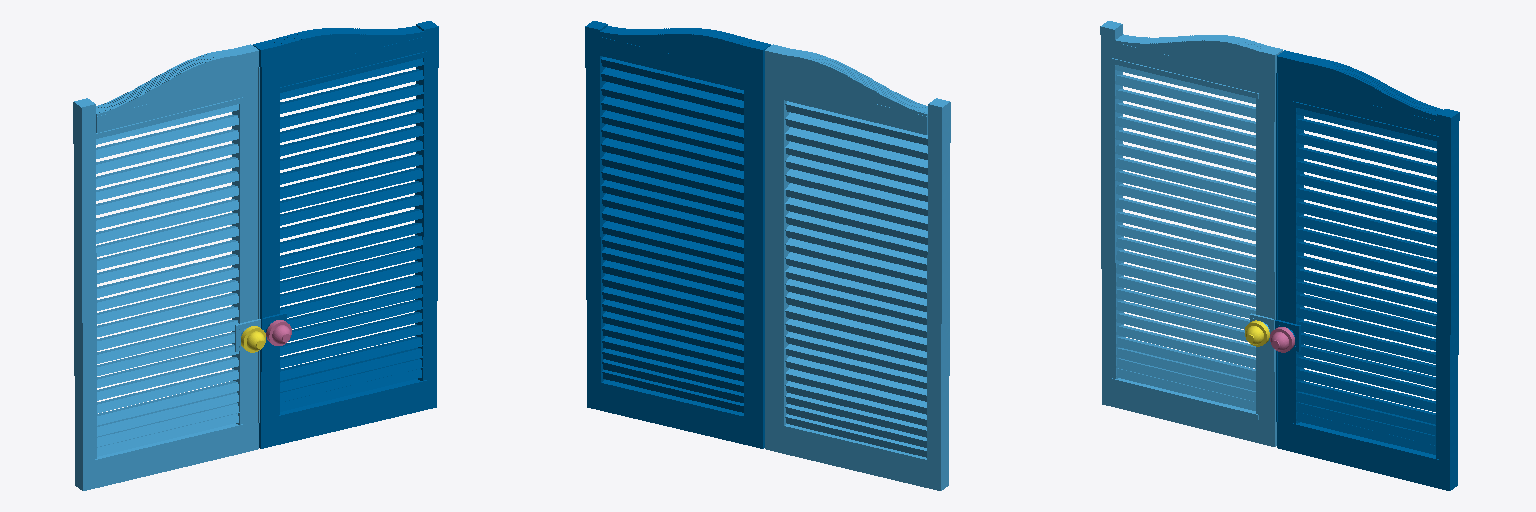
robot.urdf — frameless_paired_louver_door:
<robot name="frameless_paired_louver_door">
  <material name="honey_oak">
    <color rgba="0.66 0.39 0.17 1" />
  </material>
  <material name="sunlit_oak">
    <color rgba="0.76 0.49 0.24 1" />
  </material>
  <material name="oak_shadow">
    <color rgba="0.43 0.24 0.1 1" />
  </material>
  <material name="aged_steel">
    <color rgba="0.33 0.34 0.32 1" />
  </material>
  <material name="warm_brass">
    <color rgba="0.76 0.57 0.19 1" />
  </material>
  <material name="polished_brass">
    <color rgba="0.93 0.76 0.34 1" />
  </material>
  <link name="kinematic_root" />
  <link name="door_0">
    <visual name="door_0">
      <geometry>
        <mesh filename="assets/meshes/door_0.obj" />
      </geometry>
    </visual>
    <collision name="door_0">
      <geometry>
        <mesh filename="assets/meshes/door_0.obj" />
      </geometry>
    </collision>
  </link>
  <link name="knob_mount_0">
    </link>
  <link name="knob_0">
    <visual name="knob_0">
      <geometry>
        <mesh filename="assets/meshes/knob_0.obj" />
      </geometry>
    </visual>
    <collision name="knob_0">
      <geometry>
        <mesh filename="assets/meshes/knob_0.obj" />
      </geometry>
    </collision>
  </link>
  <link name="door_1">
    <visual name="door_1">
      <geometry>
        <mesh filename="assets/meshes/door_1.obj" />
      </geometry>
    </visual>
    <collision name="door_1">
      <geometry>
        <mesh filename="assets/meshes/door_1.obj" />
      </geometry>
    </collision>
  </link>
  <link name="knob_mount_1">
    </link>
  <link name="knob_1">
    <visual name="knob_1">
      <geometry>
        <mesh filename="assets/meshes/knob_1.obj" />
      </geometry>
    </visual>
    <collision name="knob_1">
      <geometry>
        <mesh filename="assets/meshes/knob_1.obj" />
      </geometry>
    </collision>
  </link>
  <joint name="root_to_door_0" type="revolute">
    <origin xyz="-0.497599 0 0" rpy="0 0 0" />
    <parent link="kinematic_root" />
    <child link="door_0" />
    <axis xyz="0 0 -1" />
    <limit effort="40" velocity="1" lower="0" upper="1.74533" />
  </joint>
  <joint name="door_0_to_knob_mount_0" type="fixed">
    <origin xyz="0.461599 -0.02 0.318" rpy="0 0 0" />
    <parent link="door_0" />
    <child link="knob_mount_0" />
  </joint>
  <joint name="knob_mount_0_to_knob_0" type="revolute">
    <origin xyz="0 -0.014 0" rpy="0 0 0" />
    <parent link="knob_mount_0" />
    <child link="knob_0" />
    <axis xyz="0 -1 0" />
    <limit effort="3" velocity="3" lower="0" upper="1.309" />
  </joint>
  <joint name="root_to_door_1" type="revolute">
    <origin xyz="0.497599 0 0" rpy="0 0 0" />
    <parent link="kinematic_root" />
    <child link="door_1" />
    <axis xyz="0 0 1" />
    <limit effort="40" velocity="1" lower="0" upper="1.74533" />
  </joint>
  <joint name="door_1_to_knob_mount_1" type="fixed">
    <origin xyz="-0.461599 -0.02 0.318" rpy="0 0 0" />
    <parent link="door_1" />
    <child link="knob_mount_1" />
  </joint>
  <joint name="knob_mount_1_to_knob_1" type="revolute">
    <origin xyz="0 -0.014 0" rpy="0 0 0" />
    <parent link="knob_mount_1" />
    <child link="knob_1" />
    <axis xyz="0 1 0" />
    <limit effort="3" velocity="3" lower="0" upper="1.309" />
  </joint>
</robot>

--- Render facts (derived) ---
3 views of the same robot in one strip: view 1: azimuth 30°, elevation 25°; view 2: azimuth 150°, elevation 25°; view 3: azimuth 330°, elevation 25° (orthographic).
Model frameless_paired_louver_door with 7 links and 6 joints (4 revolute, 2 fixed), rooted at kinematic_root, posed all joints at 0.
Visible links, largest first — view 1: door_0, door_1, knob_0, knob_1; view 2: door_0, door_1; view 3: door_1, door_0.
Link boxes in pixels (<box>): door_0: <box>73,44,260,490</box>; door_1: <box>253,21,438,448</box>; knob_0: <box>241,326,265,352</box>; knob_1: <box>266,320,291,345</box>; door_0: <box>765,44,950,490</box>; door_1: <box>585,21,770,448</box>; door_1: <box>1275,50,1459,490</box>; door_0: <box>1100,21,1282,446</box>.
Bounding box of the posed robot: 0.9998 × 0.1055 × 1.08 m (x, y, z).
Meshes: 4 distinct files referenced, 4 mesh visuals loaded (4 OBJ).
